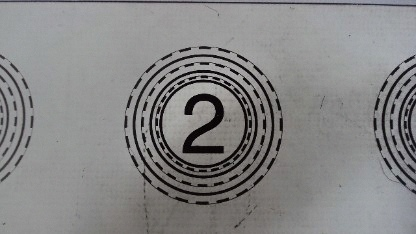2r: (122, 44, 282, 204)
